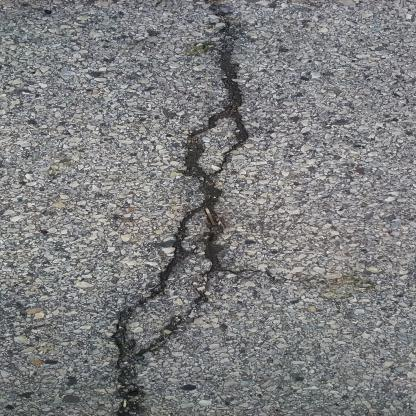Cracks: (100, 1, 261, 416)
